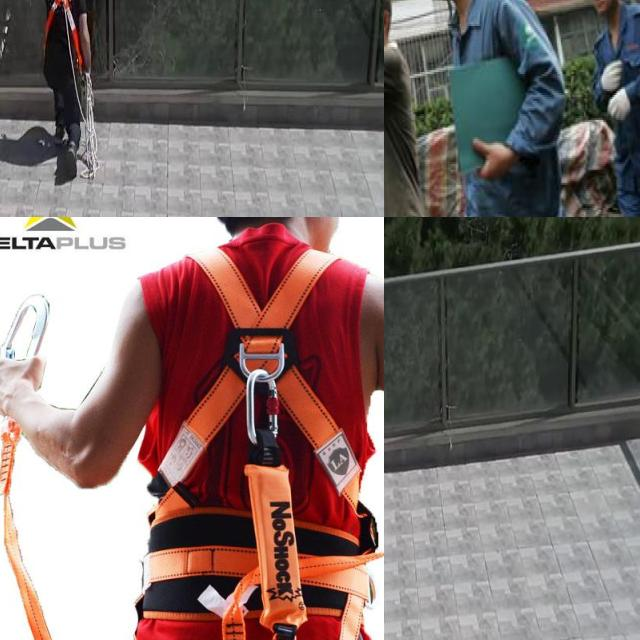Harness: (143, 244, 374, 606), (45, 0, 82, 68)
No_Ear-Protection: (384, 11, 389, 32)
hand_glove: (600, 60, 632, 120)
